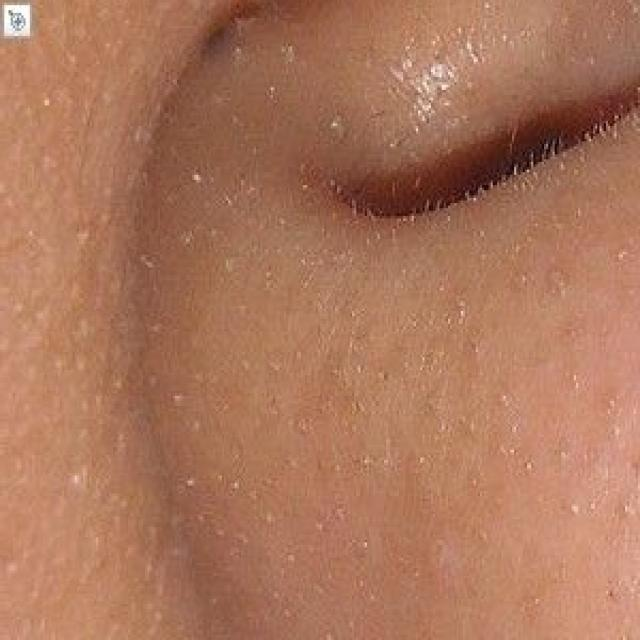whitehead: (43, 65, 312, 527)
